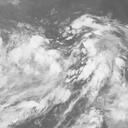cyclone: (25, 14, 114, 96)
